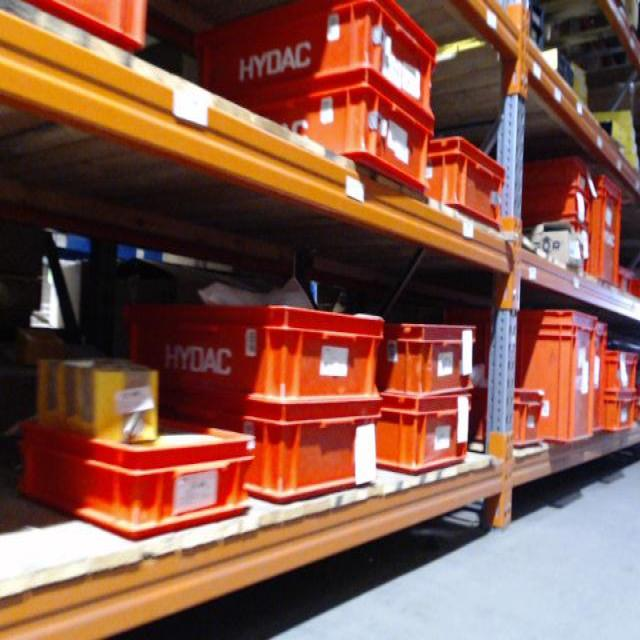small_load_carrier: (166, 2, 442, 112), (19, 420, 255, 542), (124, 305, 382, 407), (206, 78, 428, 191), (220, 406, 391, 493), (521, 311, 595, 452), (424, 136, 508, 239), (378, 403, 475, 482), (384, 324, 472, 400), (474, 379, 552, 464), (594, 177, 624, 291), (519, 160, 594, 197), (523, 195, 594, 227), (594, 318, 609, 435), (605, 395, 639, 442), (609, 352, 638, 399), (626, 280, 636, 301)
